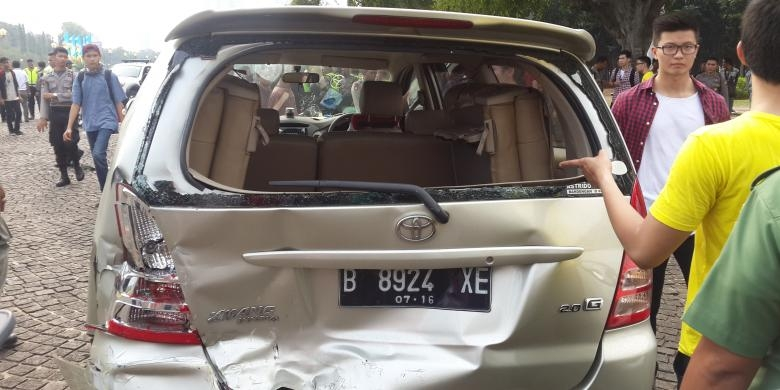plate: (337, 267, 494, 309)
